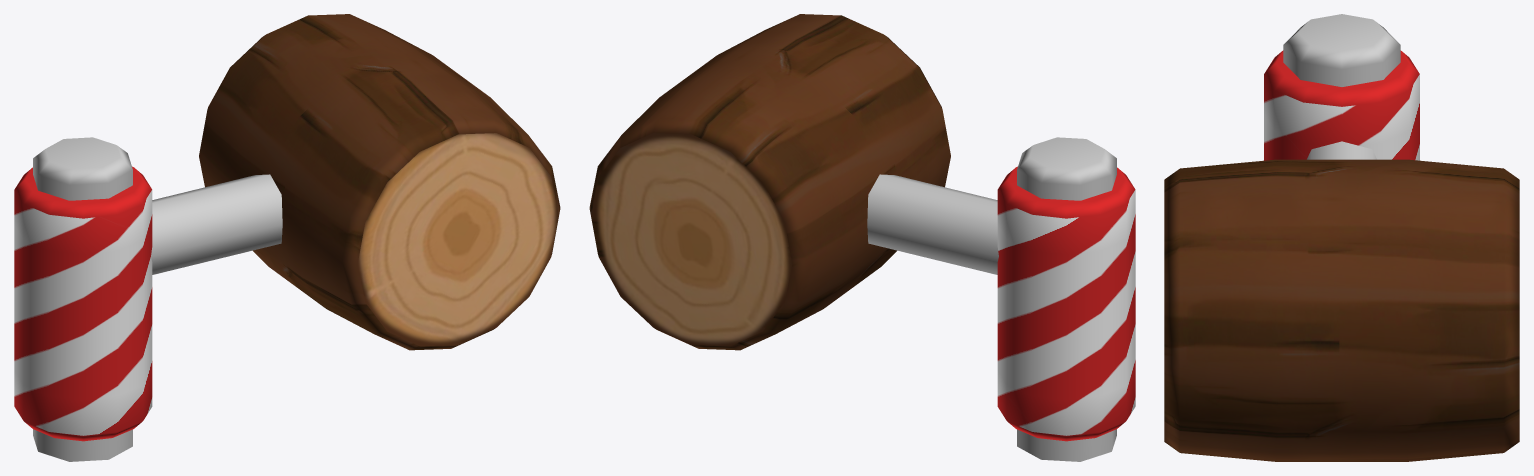
File: obstacle_001.fbx
3 renders of one model, left to right at view 1: azimuth 30°, elevation 25°; view 2: azimuth 150°, elevation 25°; view 3: azimuth 270°, elevation 25°, orthographic. The views are drawn at different scales.
Visible parts, largest first — view 1: obstacle_001; view 2: obstacle_001; view 3: obstacle_001.
Boxes of the visible parts, x1,y1,x2,y2 form: obstacle_001: [14, 14, 560, 461]; obstacle_001: [589, 14, 1135, 461]; obstacle_001: [1164, 14, 1519, 461].
Size of the model in its own units: 273 by 157 by 170.
